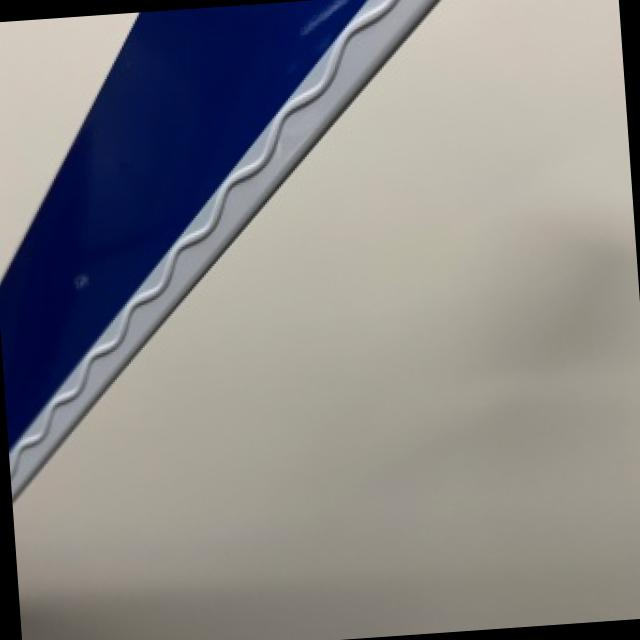healthy: (0, 0, 436, 495)
